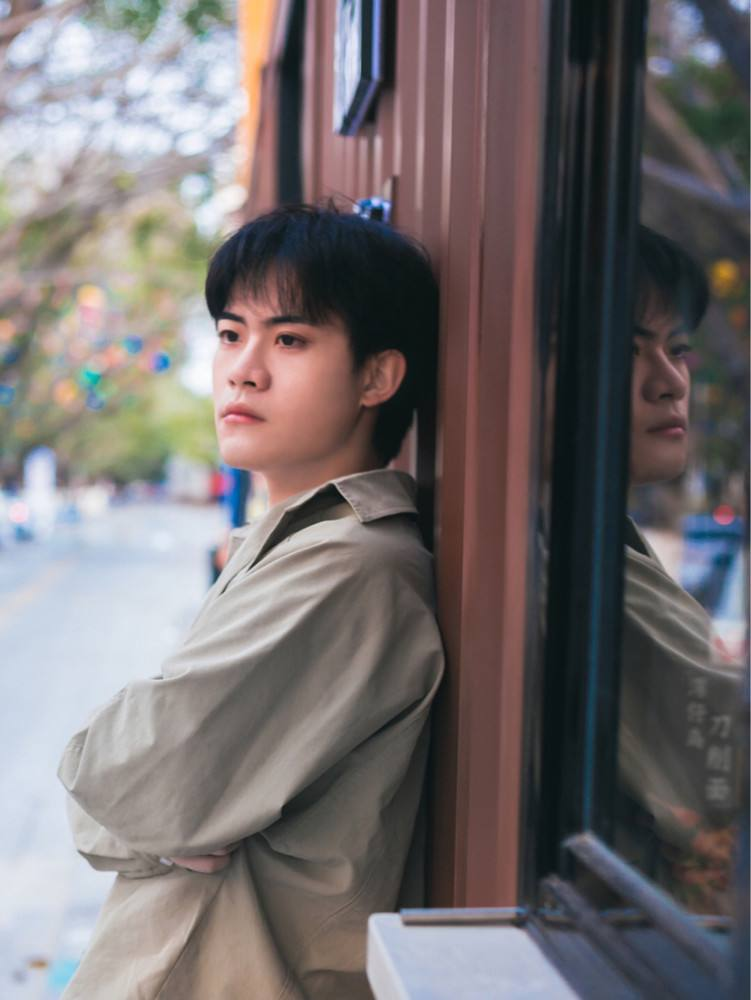person: (150, 150, 556, 954)
